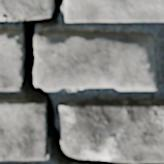brick: (59, 101, 163, 161), (0, 99, 45, 159), (65, 0, 163, 21), (0, 0, 52, 18)
broken_brick: (35, 31, 158, 91), (0, 30, 21, 91)
crack: (0, 0, 161, 163)
